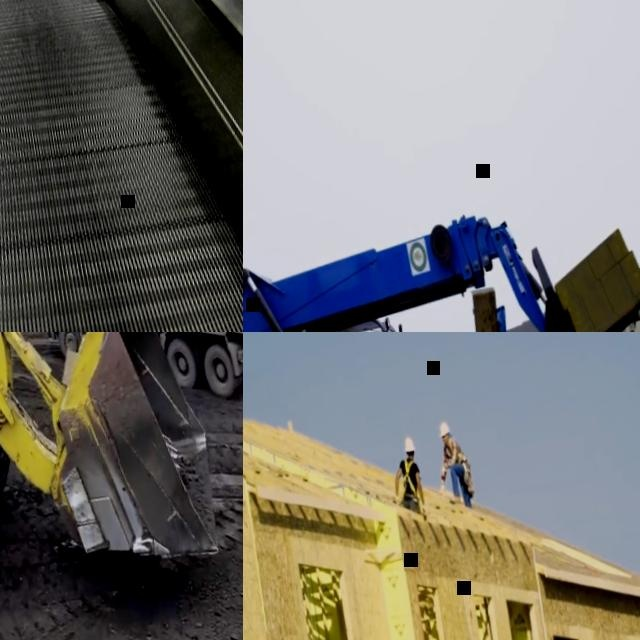Hardhat: (437, 422, 450, 437)
NO-Mask: (443, 438, 449, 444)
NO-Safety Vest: (400, 458, 420, 499), (443, 436, 467, 464)
Person: (428, 419, 477, 512), (385, 436, 426, 520)
machinery: (0, 332, 234, 640), (243, 183, 640, 332), (20, 332, 243, 425)
